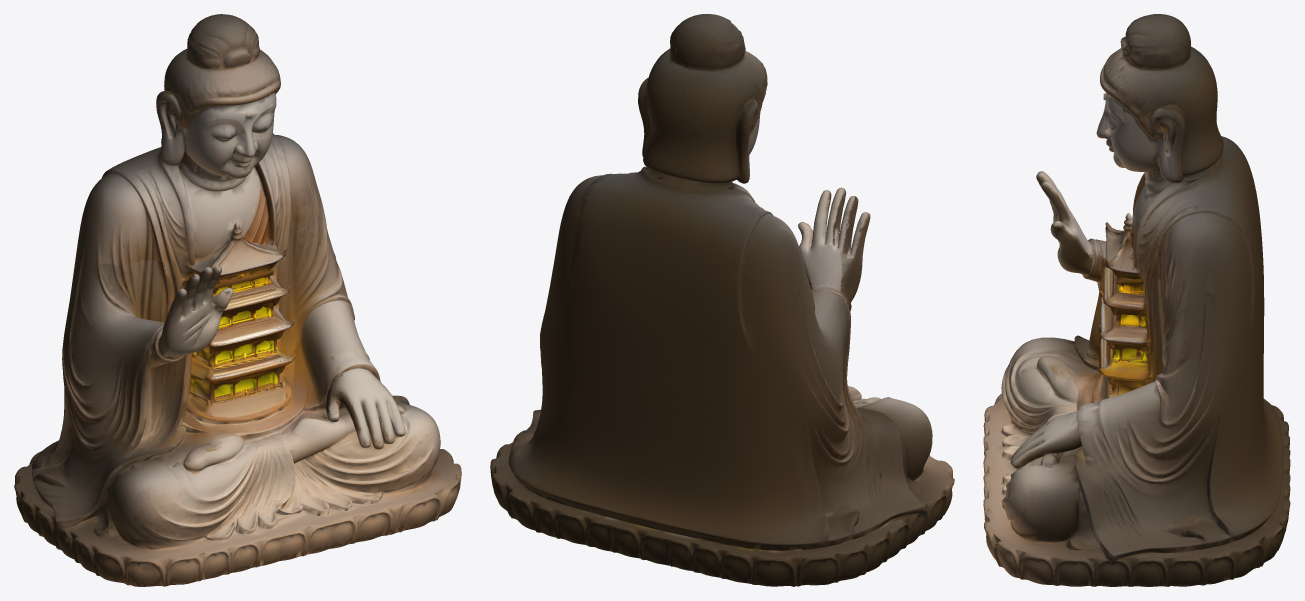
Rendered from beida-buddha.glb.
3 views of the same model, side by side, from view 1: azimuth 30°, elevation 25°; view 2: azimuth 150°, elevation 25°; view 3: azimuth 270°, elevation 25° (orthographic). The views are drawn at different scales.
Visible parts, largest first — view 1: convert; view 2: convert; view 3: convert.
Part boxes in pixels (x1=…): convert: x1=14, y1=14, x2=461, y2=586; convert: x1=490, y1=14, x2=954, y2=586; convert: x1=983, y1=14, x2=1290, y2=586.
Bounding box in the file's own units: 0.7588 × 0.9191 × 0.5313.
1 material, 1 textured.
